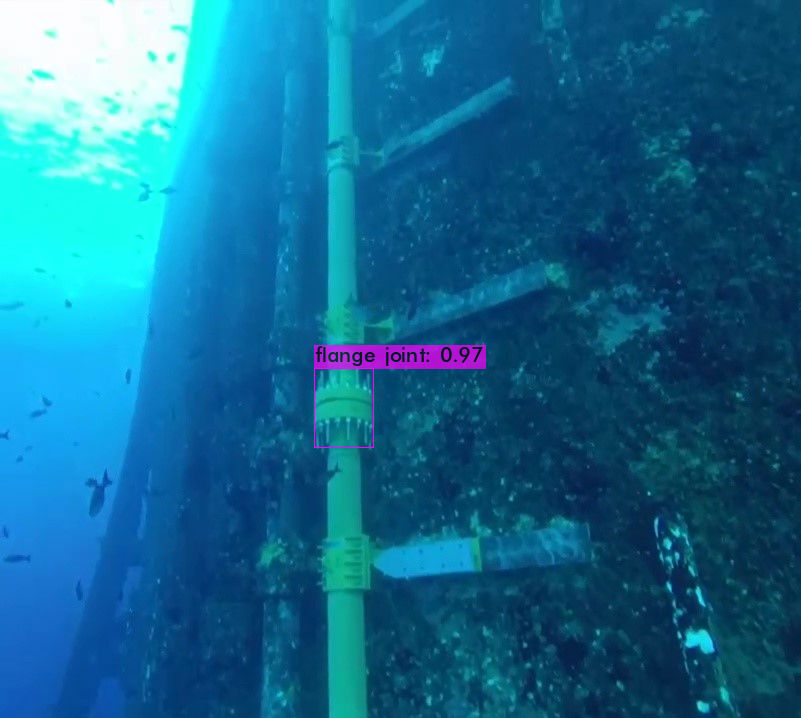flange joint: (308, 366, 378, 452)
